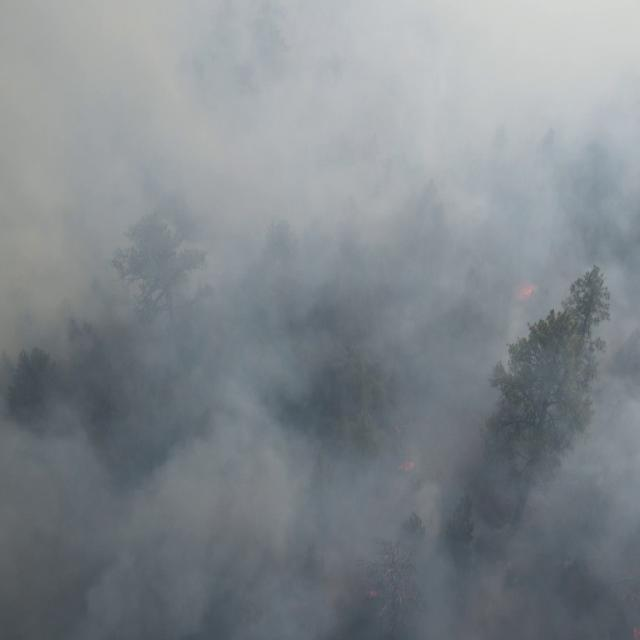fire: (512, 283, 536, 299), (396, 459, 414, 470), (631, 626, 640, 640), (368, 589, 378, 597)
smoke: (0, 0, 640, 640)
